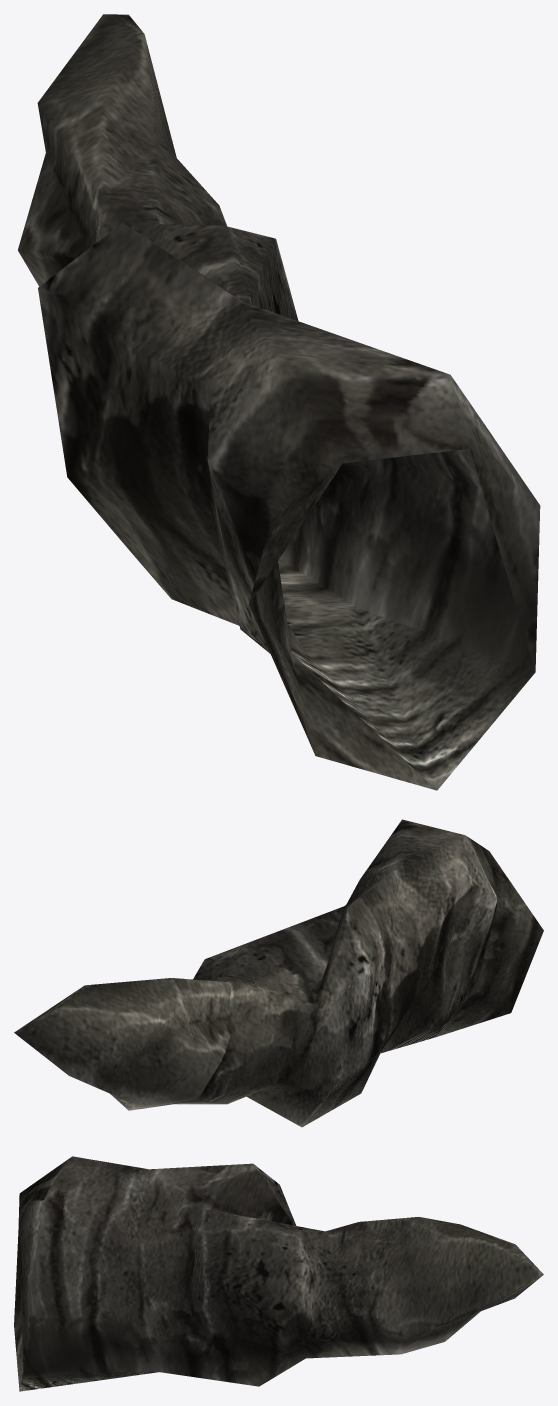
File: AEP_Rock_03_Part_02.fbx
The picture shows the model from 3 angles, top to bottom: view 1: azimuth 30°, elevation 25°; view 2: azimuth 150°, elevation 25°; view 3: azimuth 270°, elevation 25°; orthographic projection. The views are drawn at different scales.
Visible parts, largest first — view 1: AEP_Rock_03_Part_02; view 2: AEP_Rock_03_Part_02; view 3: AEP_Rock_03_Part_02.
Boxes of the visible parts, bbox=[...] form: AEP_Rock_03_Part_02: bbox=[18, 14, 540, 790]; AEP_Rock_03_Part_02: bbox=[14, 819, 543, 1127]; AEP_Rock_03_Part_02: bbox=[14, 1156, 543, 1391].
Bounding box in the file's own units: 2.3 × 2.27 × 5.21.
